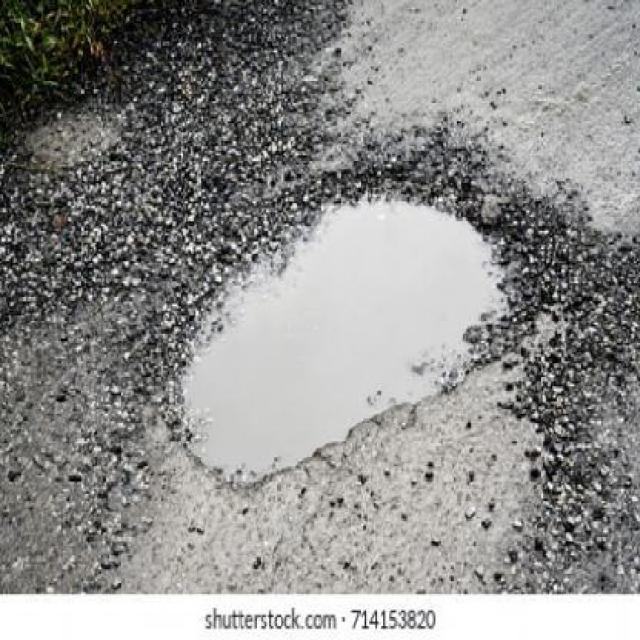Buraco: (150, 166, 533, 492)
